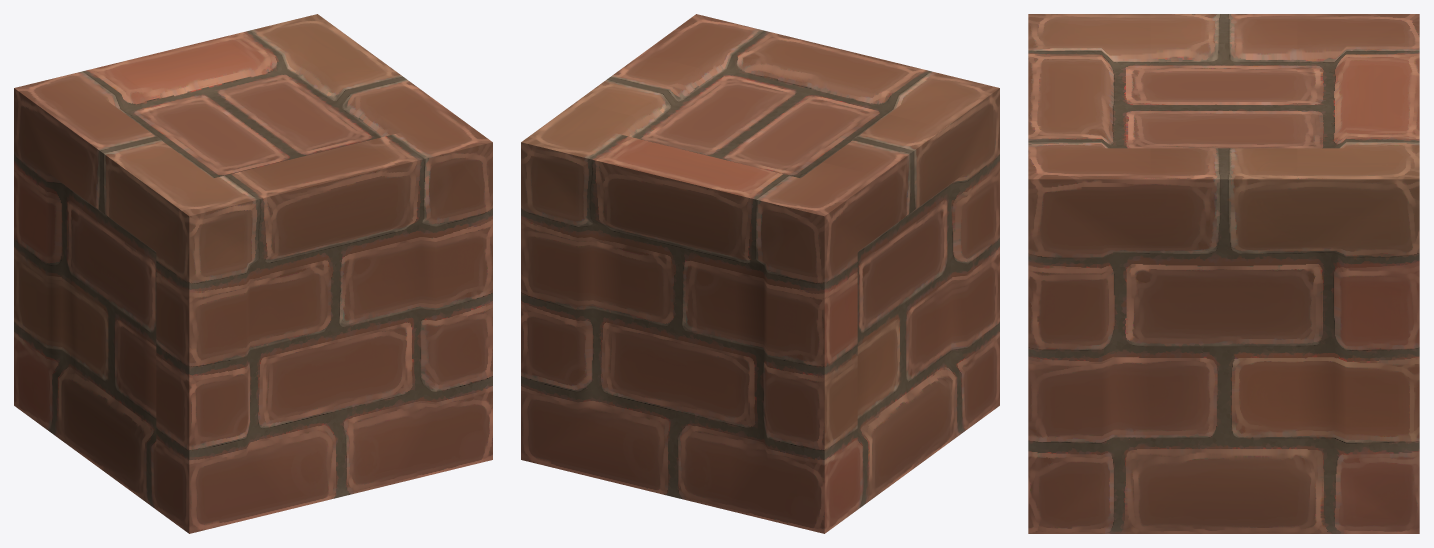
File: block_metal_a.fbx
The picture shows the model from 3 angles, left to right: view 1: azimuth 30°, elevation 25°; view 2: azimuth 150°, elevation 25°; view 3: azimuth 270°, elevation 25°; orthographic projection. The views are drawn at different scales.
Parts seen in each view (by area): view 1: lod0; view 2: lod0; view 3: lod0.
Boxes of the visible parts, x1,y1,x2,y2 form: lod0: (14, 14, 492, 533); lod0: (521, 14, 999, 533); lod0: (1028, 14, 1419, 533).
Size of the model in its own units: 32 by 32 by 32.
